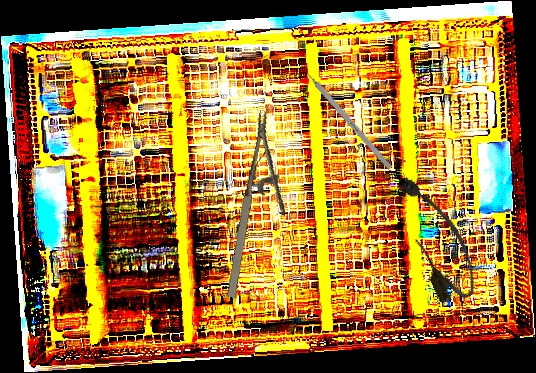Cannula: (389, 166, 485, 308)
Hook Surgical: (297, 61, 393, 171)
Needle Holder: (220, 110, 306, 305)
